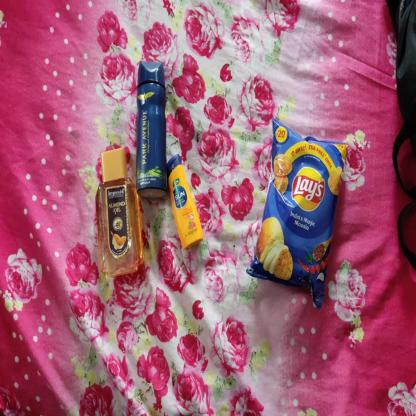indian_magic_masala: (251, 117, 347, 305)
